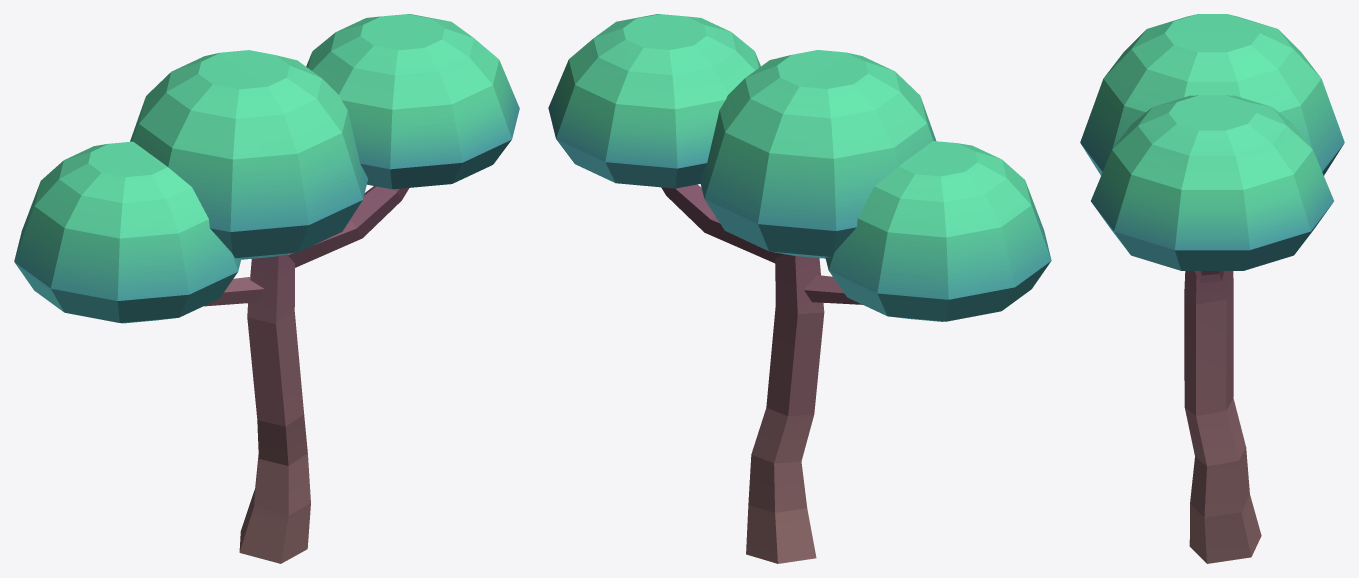
The model's file is smalltree.obj.
3 renders of one model, left to right at view 1: azimuth 30°, elevation 25°; view 2: azimuth 150°, elevation 25°; view 3: azimuth 270°, elevation 25°, orthographic. The views are drawn at different scales.
Parts seen in each view (by area): view 1: small_tree; view 2: small_tree; view 3: small_tree.
Part boxes in pixels (bbox=[...]): small_tree: bbox=[14, 14, 519, 563]; small_tree: bbox=[548, 14, 1051, 563]; small_tree: bbox=[1080, 14, 1344, 563].
Bounding box in the file's own units: 9.7 × 9.73 × 4.66.
Materials: 1 (1 with a texture image).
